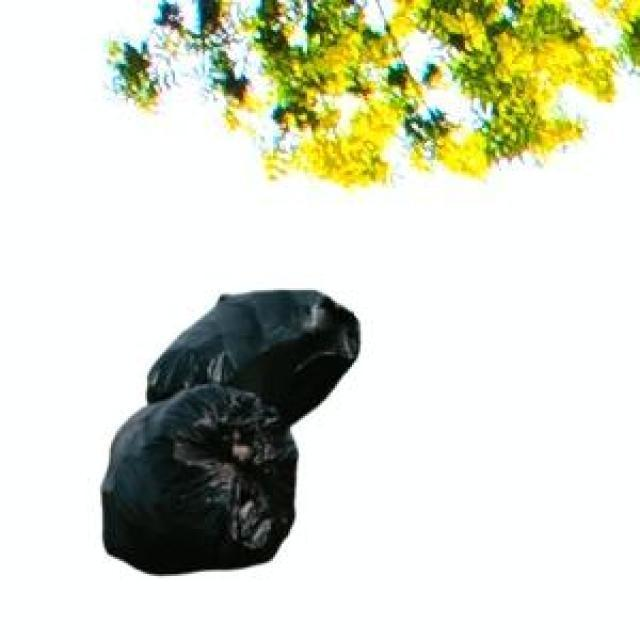waste: (102, 296, 359, 572)
